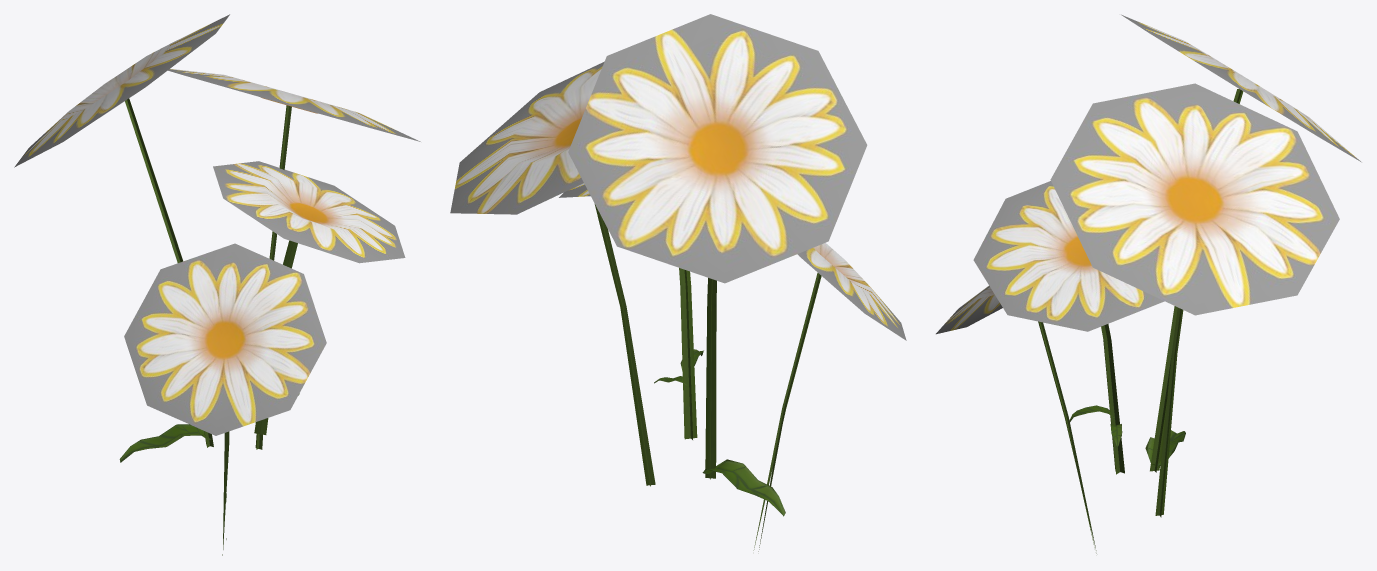
The picture shows the model from 3 angles, left to right: view 1: azimuth 30°, elevation 25°; view 2: azimuth 150°, elevation 25°; view 3: azimuth 270°, elevation 25°; orthographic projection. The views are drawn at different scales.
Parts seen in each view (by area): view 1: 54045596; view 2: 54045596; view 3: 54045596.
Boxes of the visible parts, left/top/right/bottom form: 54045596: left=14, top=14, right=420, bottom=555; 54045596: left=450, top=14, right=906, bottom=551; 54045596: left=936, top=14, right=1361, bottom=553.
Bounding box in the file's own units: 0.1766 × 0.2367 × 0.1723.
Materials: 3 (3 with a texture image).
